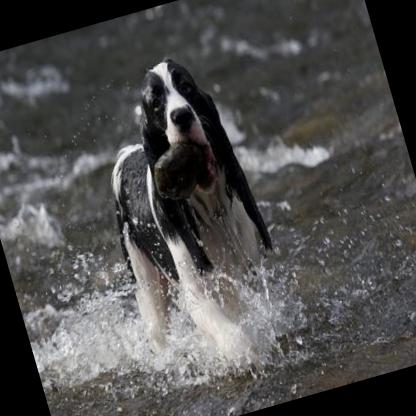English_springer: (68, 38, 308, 395)
